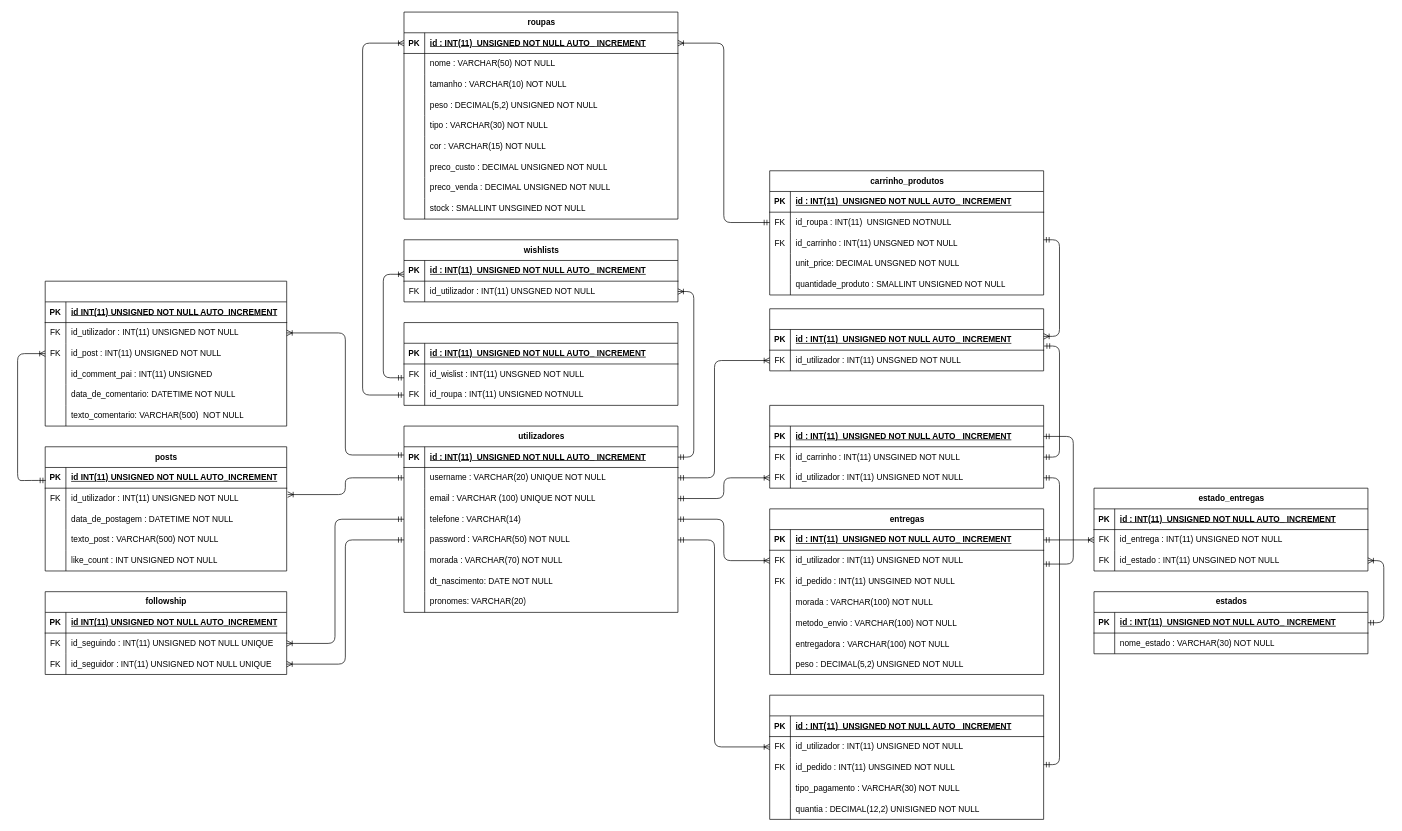
Some shapes in this 1402 by 831 pixel diagram are drawn without their labels. The shapes that lost their labels are listed below. From the top down, each one's box as (x1, y1, x2, y2) in pixels, then its label:
(45, 280, 287, 426): comentarios
(769, 308, 1044, 371): carrinhos
(403, 322, 678, 405): wishlist_produtos
(769, 405, 1044, 488): pedidos
(769, 694, 1044, 819): pagamentos
